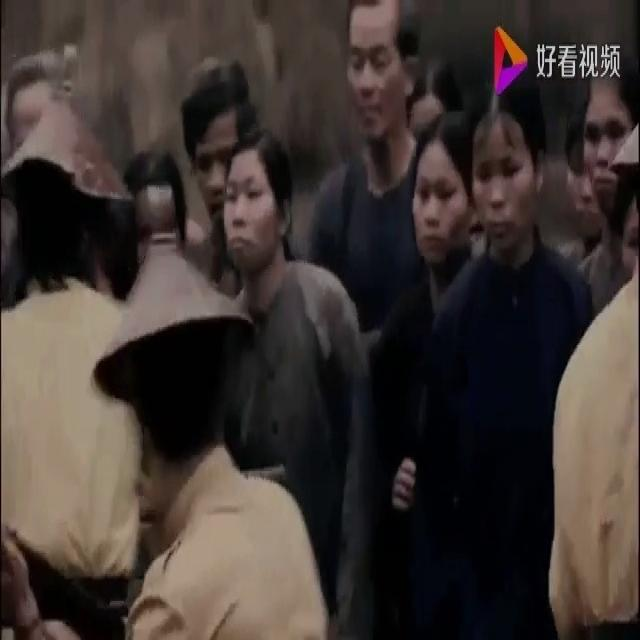non-fight: (200, 117, 380, 640), (0, 86, 146, 640), (541, 80, 639, 638), (310, 0, 429, 348)
